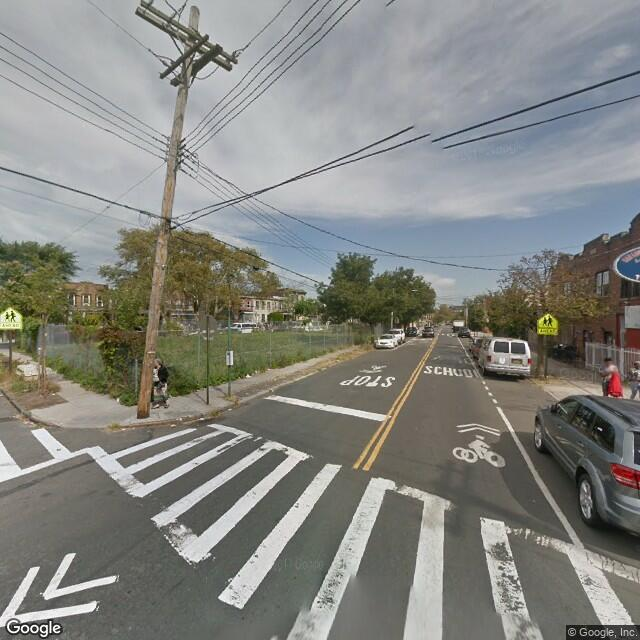litter: (115, 395, 123, 407), (167, 421, 176, 430), (244, 371, 251, 378), (199, 415, 205, 423), (225, 406, 231, 413), (49, 391, 54, 395)
